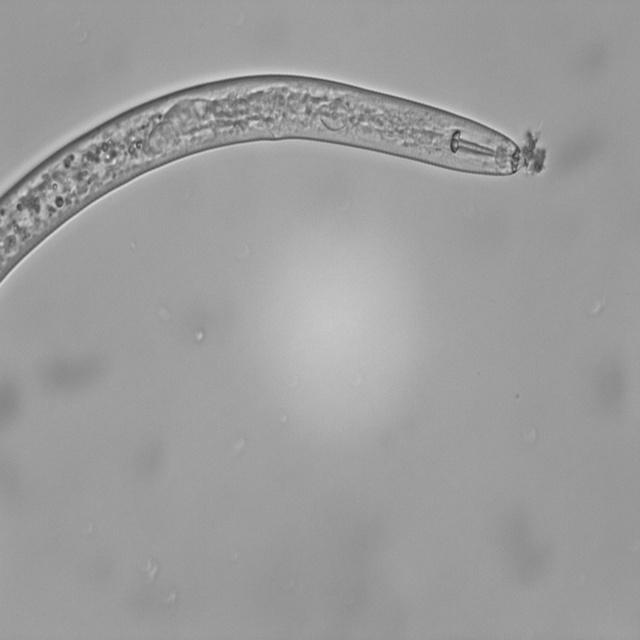Helicotylenchus: (0, 67, 525, 291)
